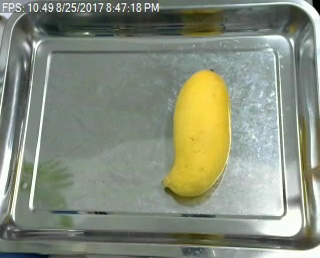Mango: (165, 66, 238, 198)
